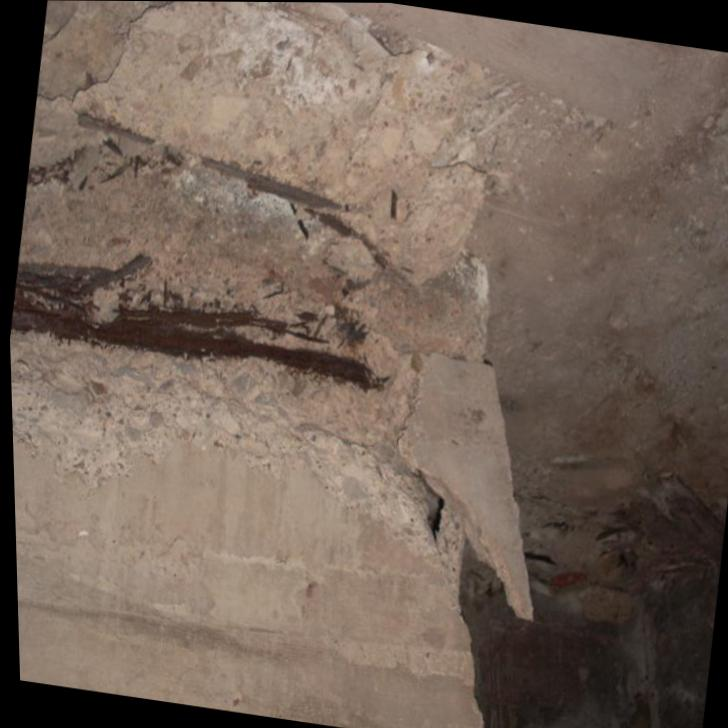damage: (8, 1, 511, 613)
